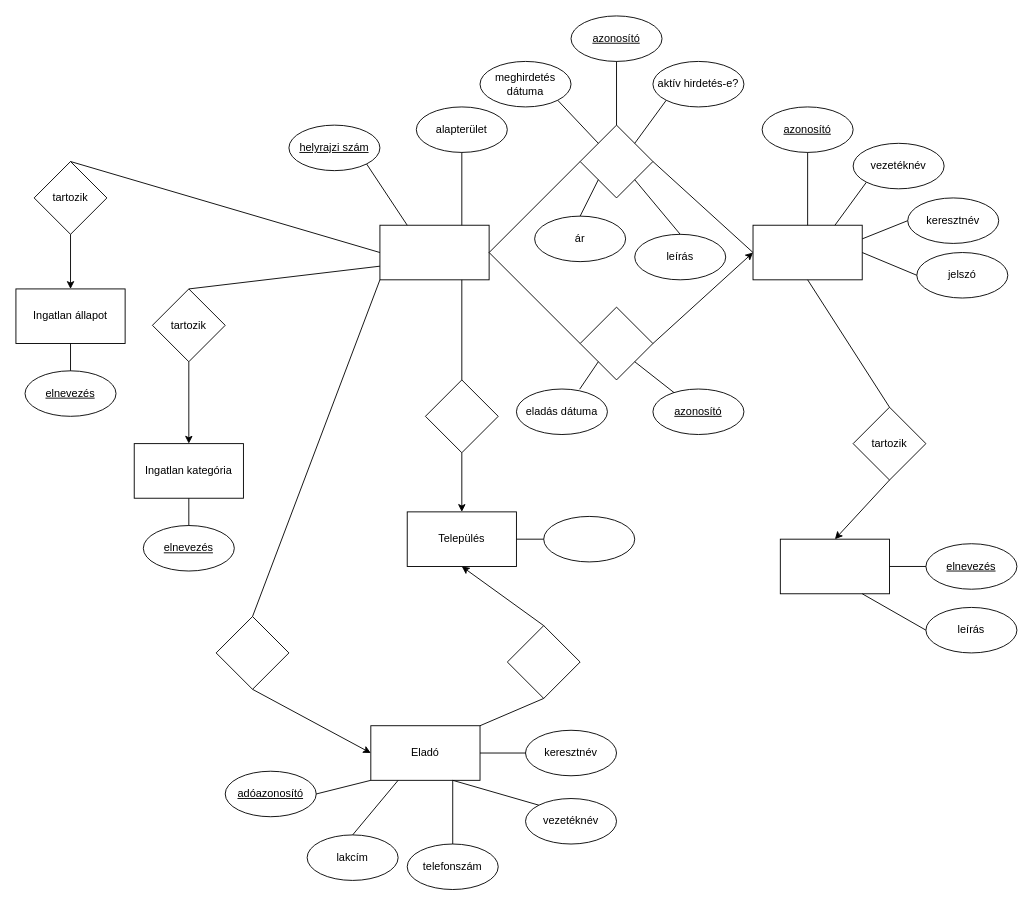
This 1033x905 diagram has some shape labels left out. Here are the shapes that lost their labels. From the top down, the box of each, then its label:
(579, 124, 653, 198): meghirdeti
(379, 224, 489, 280): Ingatlan
(752, 224, 862, 280): Ügynök
(579, 306, 653, 380): eladja
(425, 379, 498, 453): elhelyezkedik
(543, 516, 635, 562): név
(779, 538, 890, 594): Ügynök jogosultság
(215, 616, 289, 689): tulajdonos
(506, 625, 580, 698): lakik
